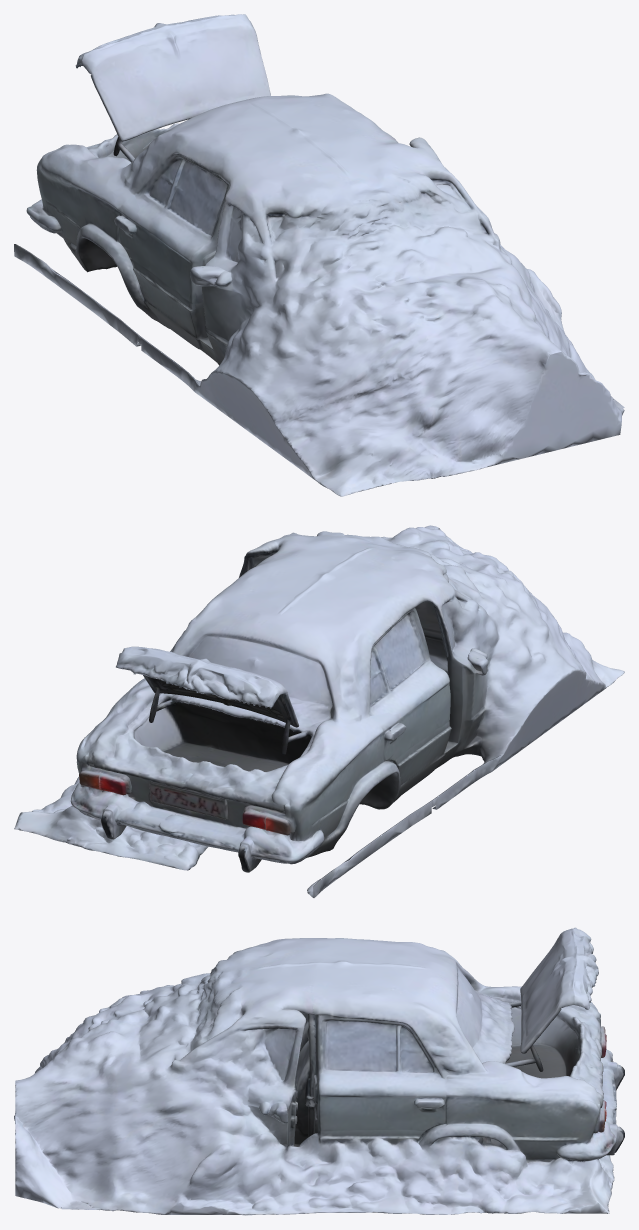
Rendered from 2101open.glb.
3 views of the same model, one above another, from view 1: azimuth 30°, elevation 25°; view 2: azimuth 150°, elevation 25°; view 3: azimuth 270°, elevation 25° (orthographic). The views are drawn at different scales.
Visible parts, largest first — view 1: tripo_node_7d9491c0-c6a5-4c5b-9b7e-7ddfae127ed3; view 2: tripo_node_7d9491c0-c6a5-4c5b-9b7e-7ddfae127ed3; view 3: tripo_node_7d9491c0-c6a5-4c5b-9b7e-7ddfae127ed3.
Part boxes in pixels (x1,y1,x2,y2): tripo_node_7d9491c0-c6a5-4c5b-9b7e-7ddfae127ed3: [14, 14, 624, 496]; tripo_node_7d9491c0-c6a5-4c5b-9b7e-7ddfae127ed3: [14, 525, 624, 897]; tripo_node_7d9491c0-c6a5-4c5b-9b7e-7ddfae127ed3: [14, 927, 624, 1215].
Size of the model in its own units: 0.5464 by 0.3265 by 0.9822.
Materials: 1 (1 with a texture image).
